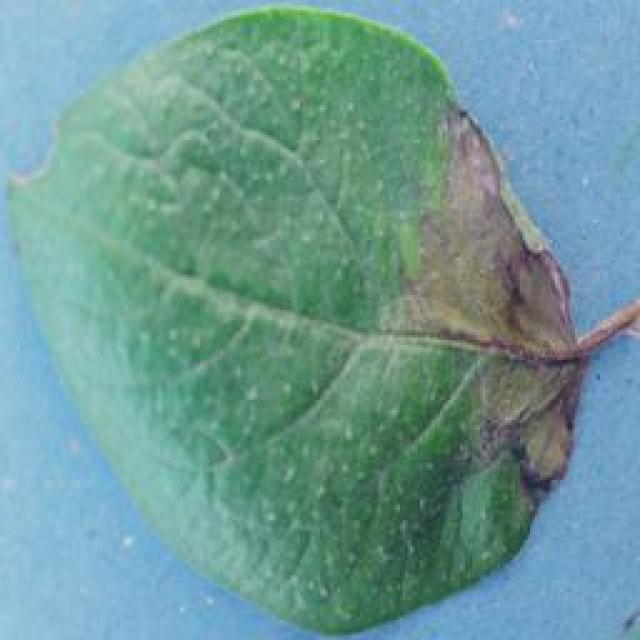Potato_Late_Blight: (14, 9, 618, 618)
